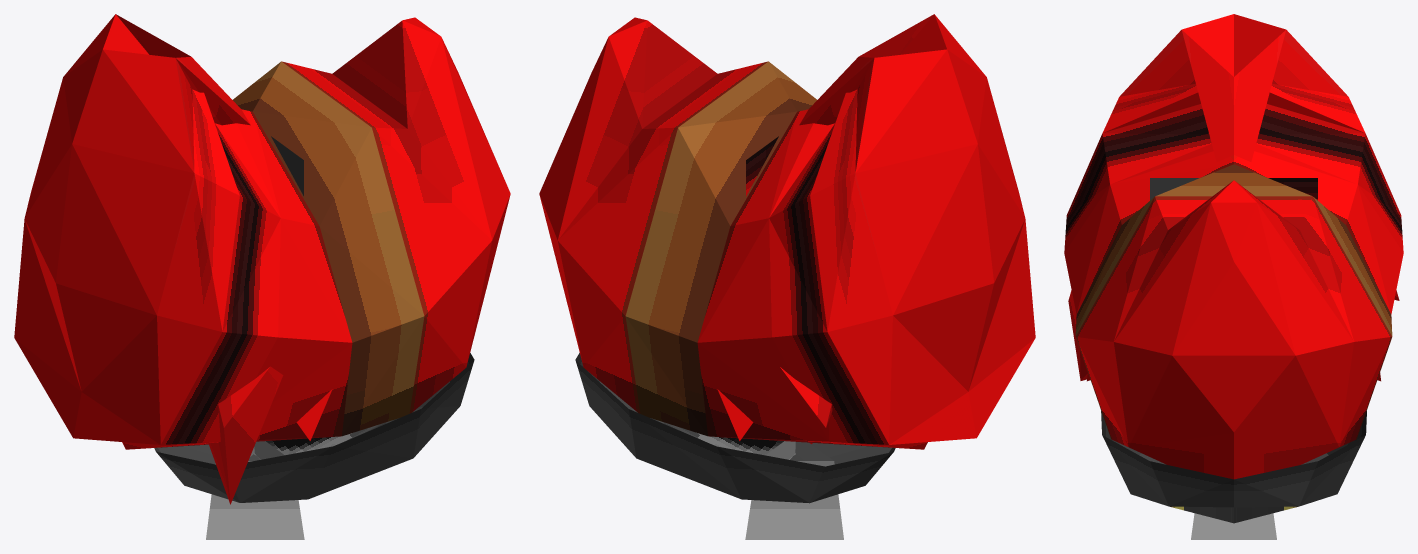
Rendered from yurei_mucho.glb.
3 renders of one model, left to right at view 1: azimuth 30°, elevation 25°; view 2: azimuth 150°, elevation 25°; view 3: azimuth 270°, elevation 25°, orthographic. The views are drawn at different scales.
Visible parts, largest first — view 1: yurei_mucho; view 2: yurei_mucho; view 3: yurei_mucho.
Part boxes in pixels (x1,y1,x2,y2): yurei_mucho: (14,14,510,539); yurei_mucho: (539,14,1035,539); yurei_mucho: (1064,14,1403,539).
Bounding box in the file's own units: 14.87 × 17.57 × 11.92.
Materials: 2 (2 with a texture image).
